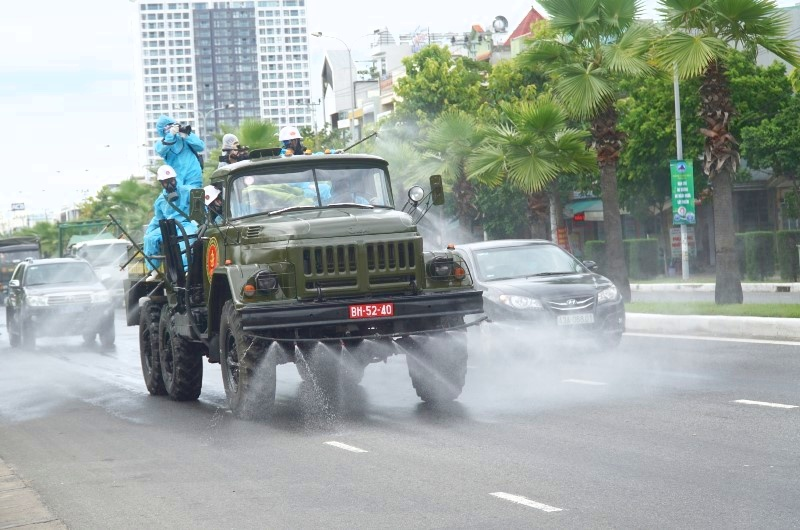plate: (349, 302, 398, 321), (552, 311, 597, 326)
